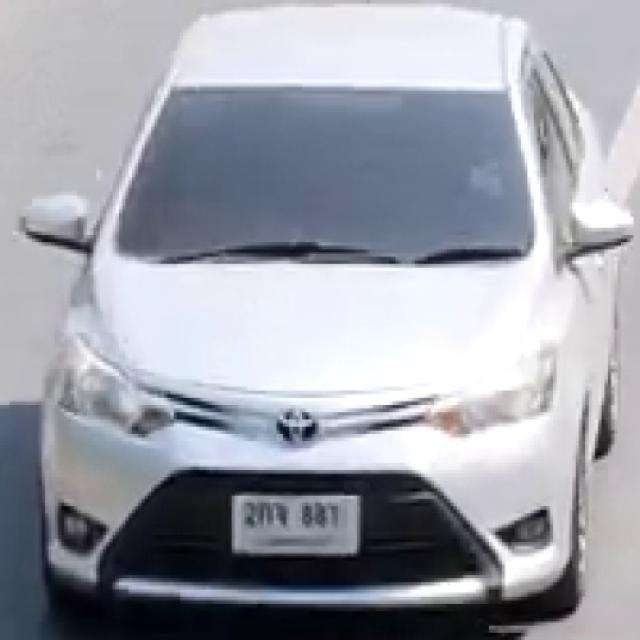plate: (233, 493, 360, 557)
